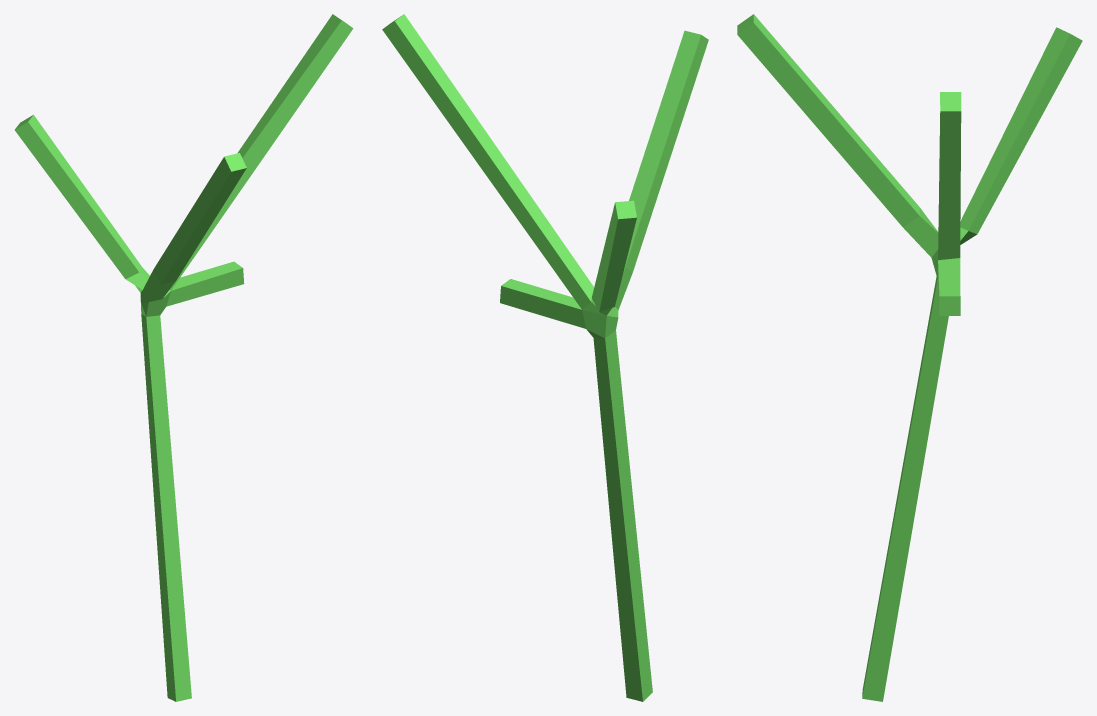
The model's file is Budding.fbx.
The picture shows the model from 3 angles, left to right: view 1: azimuth 30°, elevation 25°; view 2: azimuth 150°, elevation 25°; view 3: azimuth 270°, elevation 25°; orthographic projection. The views are drawn at different scales.
Visible parts, largest first — view 1: Leaf.049; view 2: Leaf.049; view 3: Leaf.049.
Part boxes in pixels (box(x1,y1,x2,y2)): Leaf.049: box(15, 14, 353, 701); Leaf.049: box(382, 14, 708, 701); Leaf.049: box(737, 14, 1082, 701).
Bounding box in the file's own units: 155 × 318 × 140.
